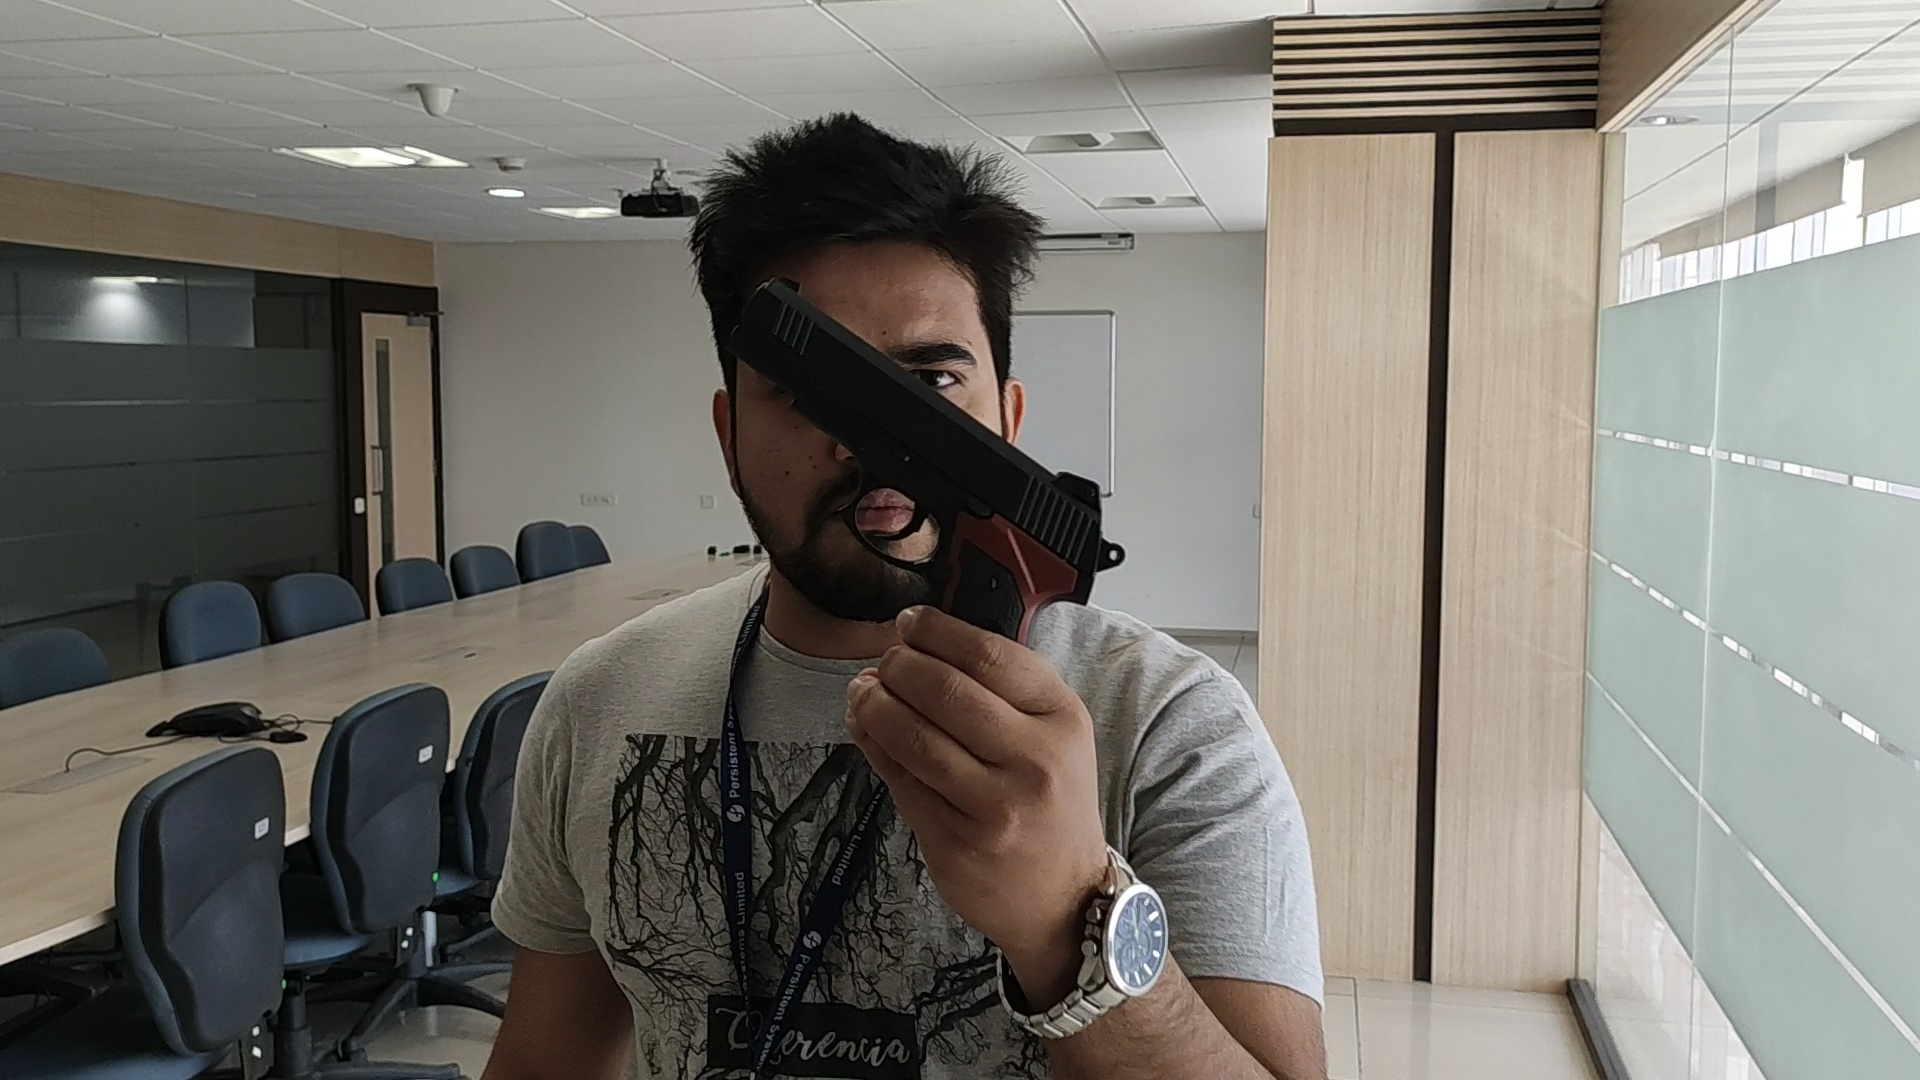gun: (727, 276, 1125, 604)
